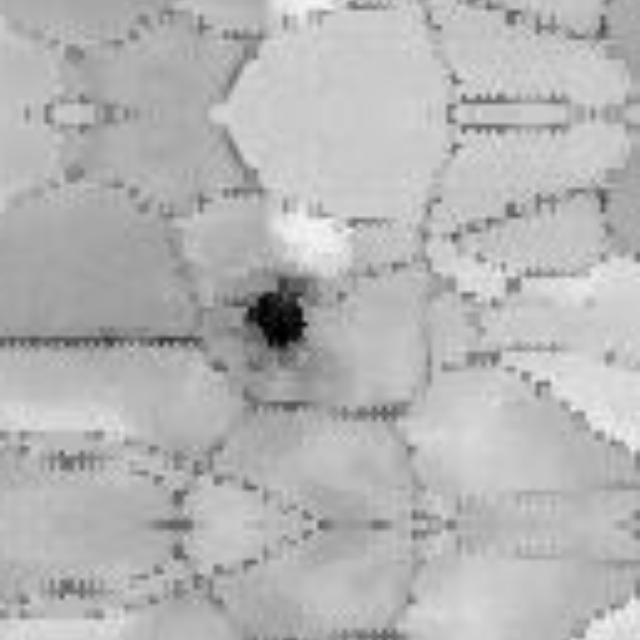good_void: (240, 269, 315, 363)
